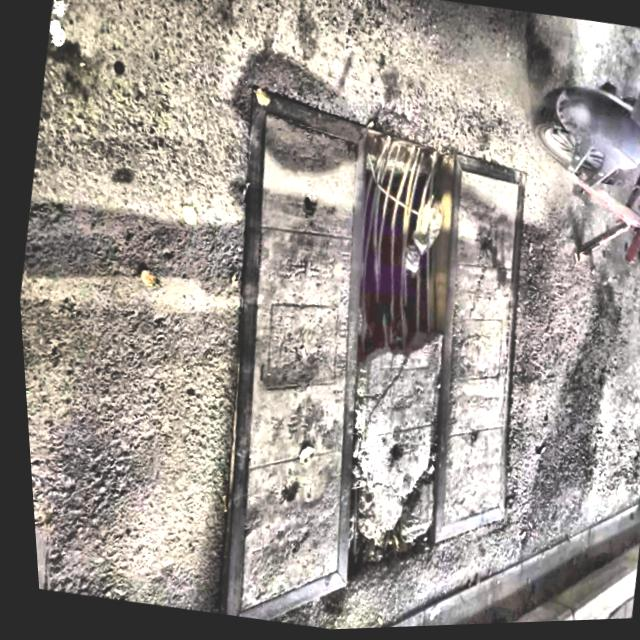open_manhole: (209, 86, 521, 622)
